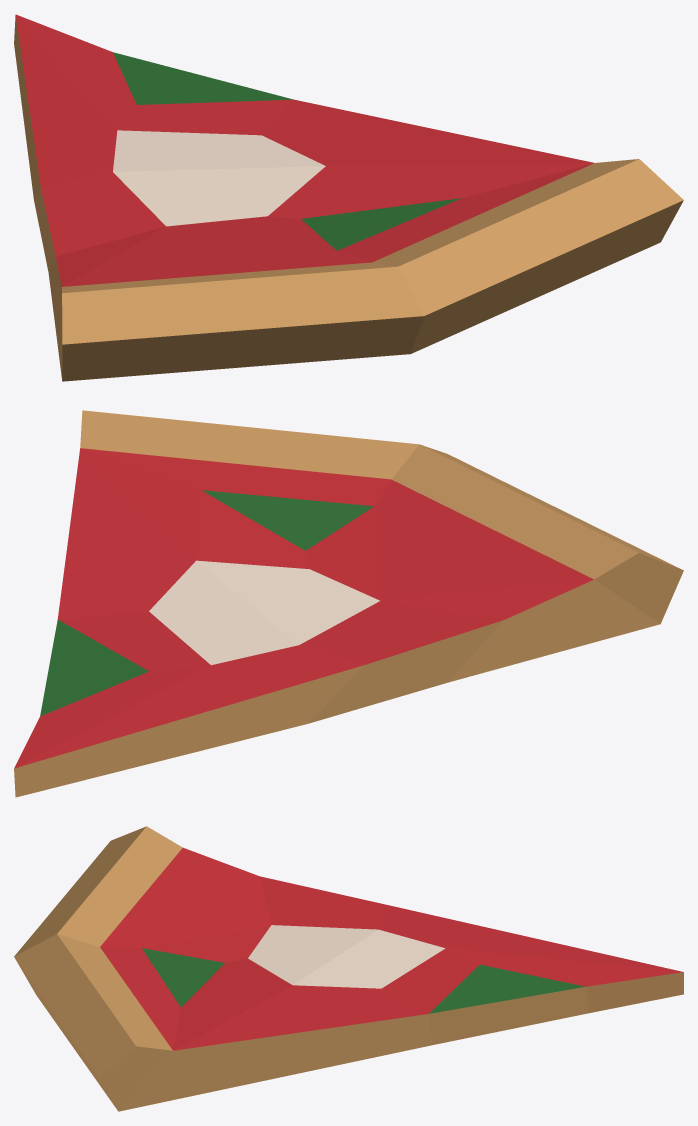
Rendered from pizza-mozzarella-slice.glb.
3 renders of one model, top to bottom at view 1: azimuth 30°, elevation 25°; view 2: azimuth 150°, elevation 25°; view 3: azimuth 270°, elevation 25°, orthographic. The views are drawn at different scales.
Parts seen in each view (by area): view 1: pizza-mozzarella-slice; view 2: pizza-mozzarella-slice; view 3: pizza-mozzarella-slice.
Boxes of the visible parts, box(x1,y1,x2,y2) form: pizza-mozzarella-slice: box(14, 14, 683, 381); pizza-mozzarella-slice: box(14, 410, 683, 797); pizza-mozzarella-slice: box(14, 826, 683, 1111).
Size of the model in its own units: 0.1856 by 0.0225 by 0.2217.
1 material, 1 textured.
